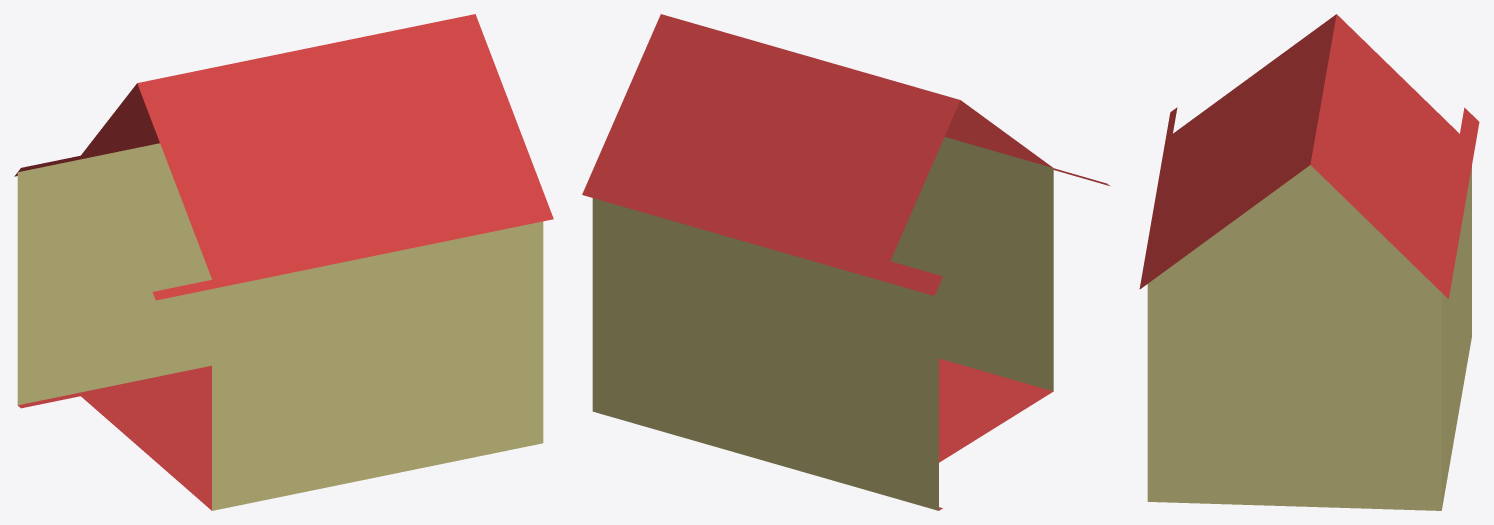
3 renders of one model, left to right at view 1: azimuth 30°, elevation 25°; view 2: azimuth 150°, elevation 25°; view 3: azimuth 270°, elevation 25°, orthographic. The views are drawn at different scales.
Size of the model in its own units: 14.69 by 11.28 by 12.64.
